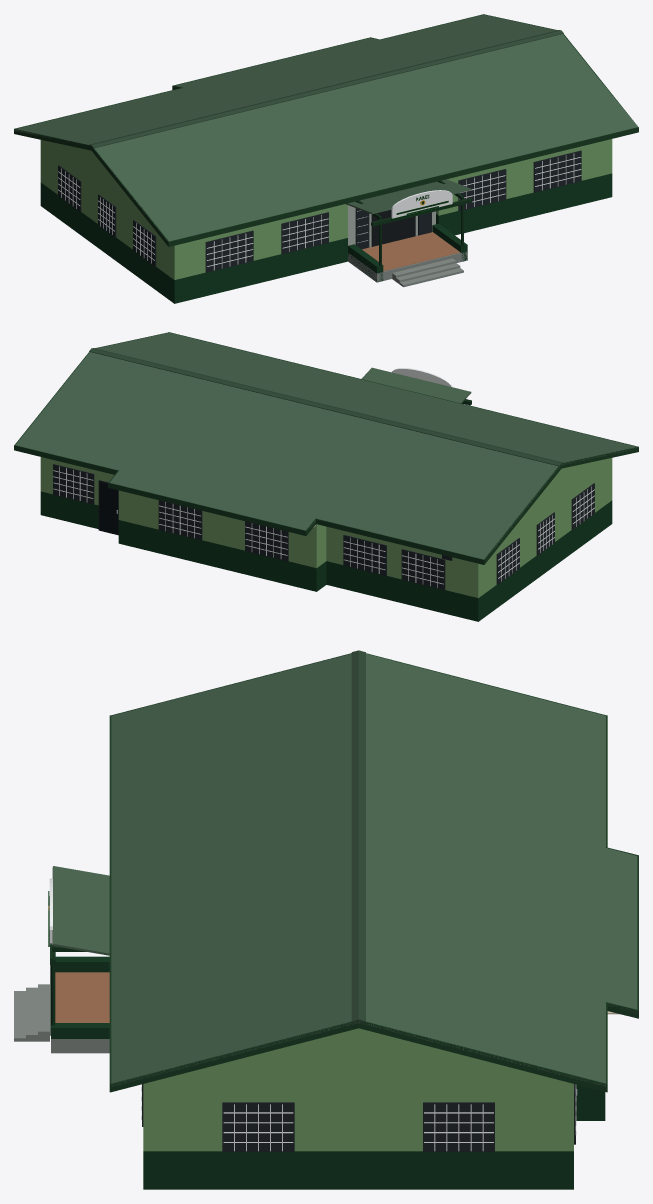
File: rares_admin_building.glb
The picture shows the model from 3 angles, top to bottom: view 1: azimuth 30°, elevation 25°; view 2: azimuth 150°, elevation 25°; view 3: azimuth 270°, elevation 25°; orthographic projection. The views are drawn at different scales.
Visible parts, largest first — view 1: RAB_Joined_RAB_RoofGreen, RAB_Joined_RAB_WallDarkGreen, RAB_Joined_RAB_WallMint, RAB_Joined_RAB_WindowFrame, RAB_Joined_RAB_FasciaGreen, RAB_Roof_RidgeCap, RAB_Joined_RAB_WindowGrille, RAB_Joined_RAB_Concrete, RAB_Porch_Tiles, RAB_Joined_RAB_DoorFrame, RAB_Sign_Parapet, RAB_Joined_RAB_PostGreen; view 2: RAB_Joined_RAB_RoofGreen, RAB_Joined_RAB_WallDarkGreen, RAB_Joined_RAB_WallMint, RAB_Joined_RAB_WindowFrame, RAB_Joined_RAB_FasciaGreen, RAB_Joined_RAB_WindowGrille, RAB_Roof_RidgeCap, RAB_Joined_RAB_DoorGlass, RAB_Sign_Parapet; view 3: RAB_Joined_RAB_RoofGreen, RAB_Joined_RAB_WallMint, RAB_Joined_RAB_WallDarkGreen, RAB_Joined_RAB_FasciaGreen, RAB_Joined_RAB_WindowFrame, RAB_Roof_RidgeCap, RAB_Joined_RAB_Concrete, RAB_Porch_Tiles, RAB_Joined_RAB_WindowGrille.
Boxes of the visible parts, x1=… form: RAB_Joined_RAB_RoofGreen: x1=14, y1=14, x2=637, y2=241; RAB_Joined_RAB_WallDarkGreen: x1=40, y1=173, x2=612, y2=303; RAB_Joined_RAB_WallMint: x1=40, y1=139, x2=612, y2=279; RAB_Joined_RAB_WindowFrame: x1=58, y1=150, x2=581, y2=272; RAB_Joined_RAB_FasciaGreen: x1=14, y1=14, x2=638, y2=246; RAB_Roof_RidgeCap: x1=89, y1=30, x2=563, y2=148; RAB_Joined_RAB_WindowGrille: x1=58, y1=153, x2=581, y2=270; RAB_Joined_RAB_Concrete: x1=348, y1=205, x2=467, y2=287; RAB_Porch_Tiles: x1=362, y1=232, x2=460, y2=271; RAB_Joined_RAB_DoorFrame: x1=371, y1=210, x2=415, y2=246; RAB_Sign_Parapet: x1=391, y1=190, x2=452, y2=218; RAB_Joined_RAB_PostGreen: x1=355, y1=180, x2=471, y2=272; RAB_Joined_RAB_RoofGreen: x1=15, y1=332, x2=638, y2=559; RAB_Joined_RAB_WallDarkGreen: x1=40, y1=491, x2=612, y2=621; RAB_Joined_RAB_WallMint: x1=40, y1=457, x2=612, y2=597; RAB_Joined_RAB_WindowFrame: x1=53, y1=464, x2=594, y2=590; RAB_Joined_RAB_FasciaGreen: x1=14, y1=332, x2=638, y2=564; RAB_Joined_RAB_WindowGrille: x1=53, y1=466, x2=594, y2=587; RAB_Roof_RidgeCap: x1=89, y1=348, x2=563, y2=466; RAB_Joined_RAB_DoorGlass: x1=100, y1=482, x2=118, y2=534; RAB_Sign_Parapet: x1=392, y1=368, x2=452, y2=387; RAB_Joined_RAB_RoofGreen: x1=52, y1=653, x2=637, y2=1086; RAB_Joined_RAB_WallMint: x1=143, y1=1028, x2=573, y2=1151; RAB_Joined_RAB_WallDarkGreen: x1=51, y1=956, x2=605, y2=1189; RAB_Joined_RAB_FasciaGreen: x1=50, y1=653, x2=638, y2=1092; RAB_Joined_RAB_WindowFrame: x1=142, y1=1084, x2=575, y2=1151; RAB_Roof_RidgeCap: x1=351, y1=650, x2=365, y2=1022; RAB_Joined_RAB_Concrete: x1=14, y1=984, x2=109, y2=1053; RAB_Porch_Tiles: x1=55, y1=972, x2=109, y2=1022; RAB_Joined_RAB_WindowGrille: x1=141, y1=1084, x2=576, y2=1151.
Bounding box in the file's own units: 21.78 × 5.06 × 15.59.
